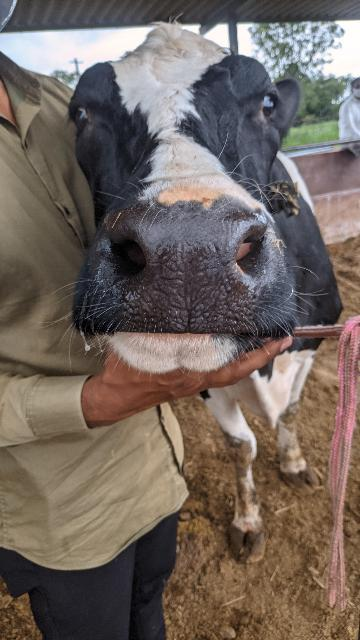Muzzle: (121, 209, 252, 329)
